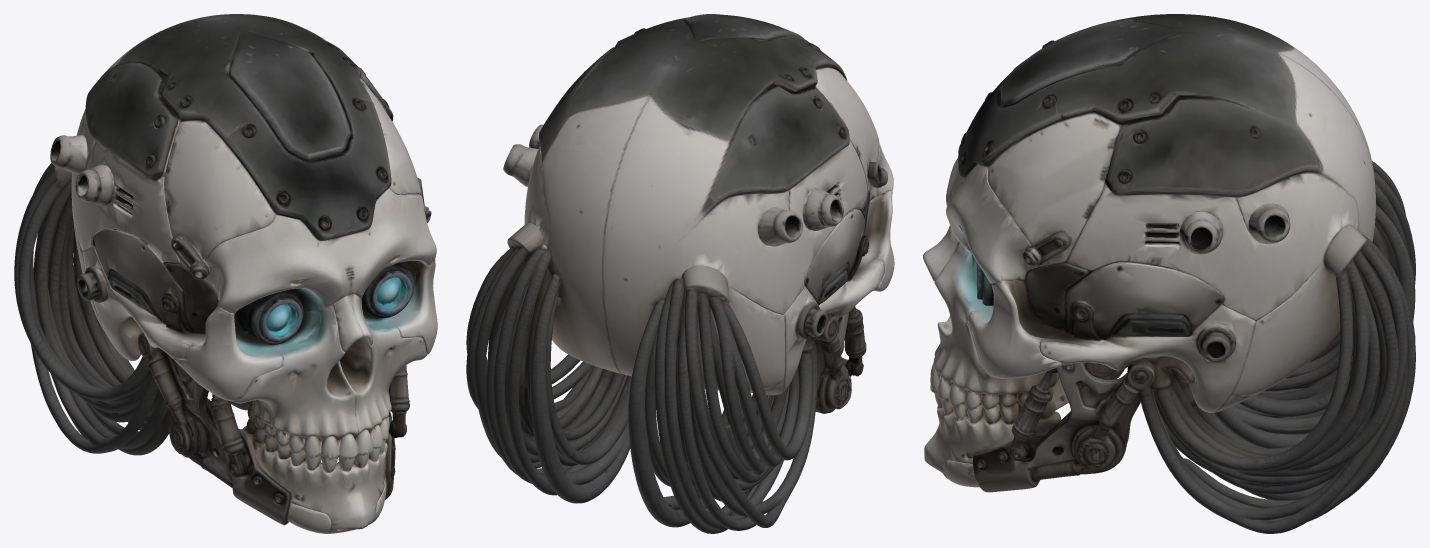
Rendered from skull.glb.
The picture shows the model from 3 angles, left to right: view 1: azimuth 30°, elevation 25°; view 2: azimuth 150°, elevation 25°; view 3: azimuth 270°, elevation 25°; orthographic projection. The views are drawn at different scales.
Visible parts, largest first — view 1: material; view 2: material; view 3: material.
Boxes of the visible parts, bbox=[...] form: material: bbox=[14, 14, 437, 533]; material: bbox=[466, 14, 894, 533]; material: bbox=[923, 14, 1415, 533].
Bounding box in the file's own units: 0.6693 × 0.9042 × 0.8938.
1 material, 1 textured.
